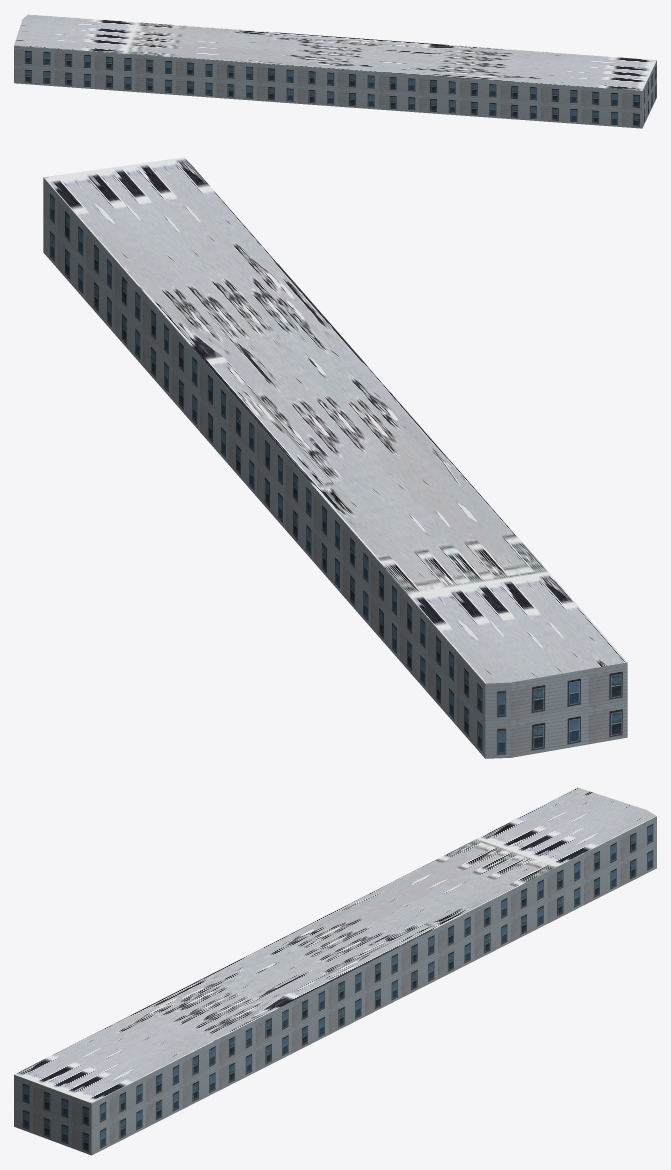
File: ResTex__1853.fbx
3 renders of one model, top to bottom at view 1: azimuth 30°, elevation 25°; view 2: azimuth 150°, elevation 25°; view 3: azimuth 270°, elevation 25°, orthographic. The views are drawn at different scales.
Visible parts, largest first — view 1: CityEngineMaterial_18_m, CityEngineMaterial_2_m; view 2: CityEngineMaterial_2_m, CityEngineMaterial_18_m; view 3: CityEngineMaterial_2_m, CityEngineMaterial_18_m.
Boxes of the visible parts, bbox=[...] form: CityEngineMaterial_18_m: bbox=[14, 45, 656, 128]; CityEngineMaterial_2_m: bbox=[14, 14, 656, 90]; CityEngineMaterial_2_m: bbox=[44, 157, 626, 683]; CityEngineMaterial_18_m: bbox=[43, 177, 627, 758]; CityEngineMaterial_2_m: bbox=[14, 787, 656, 1103]; CityEngineMaterial_18_m: bbox=[14, 816, 656, 1155].
Bounding box in the file's own units: 78.01 × 6 × 67.08.
Materials: 2 (2 with a texture image).
